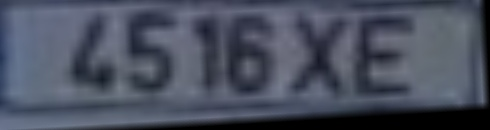1: (192, 14, 225, 101)
4: (66, 15, 126, 103)
5: (127, 11, 182, 102)
6: (228, 16, 279, 105)
E: (357, 17, 422, 107)
X: (289, 14, 355, 106)
